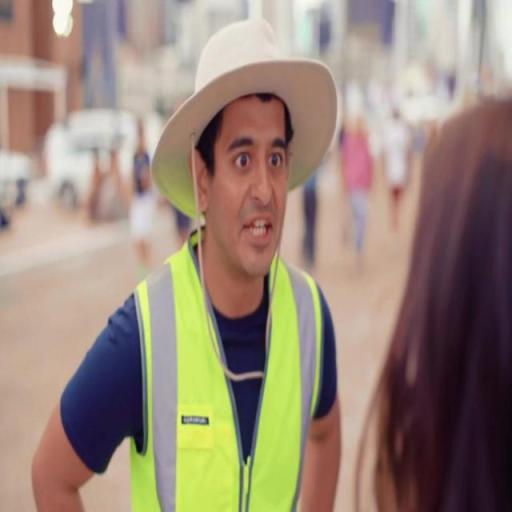vest: (122, 249, 331, 512)
